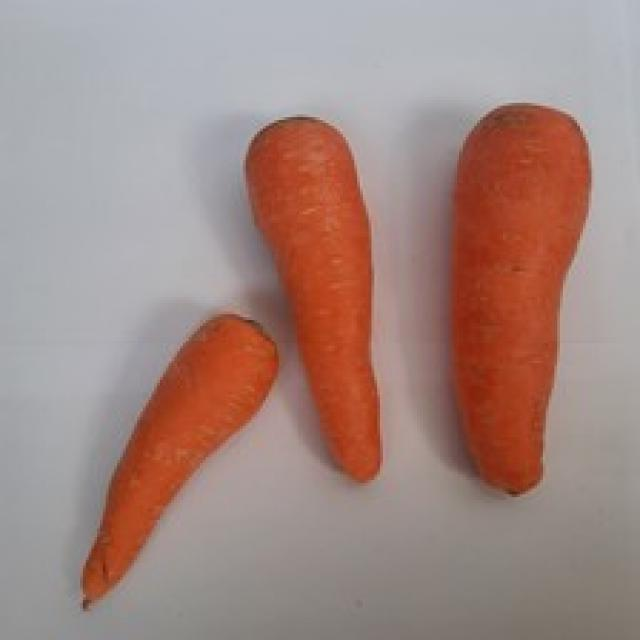carrot: (74, 309, 284, 615), (444, 100, 594, 500), (249, 115, 384, 485)
